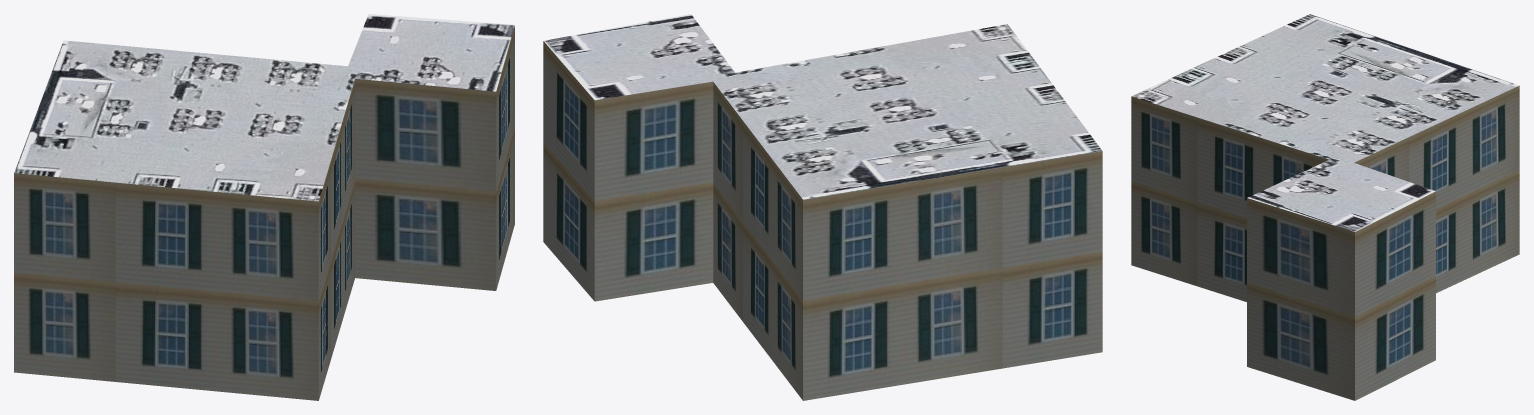
Rendered from ResTex__214.fbx.
3 renders of one model, left to right at view 1: azimuth 30°, elevation 25°; view 2: azimuth 150°, elevation 25°; view 3: azimuth 270°, elevation 25°, orthographic. The views are drawn at different scales.
Visible parts, largest first — view 1: CityEngineMaterial_7_m, CityEngineMaterial_4_m; view 2: CityEngineMaterial_7_m, CityEngineMaterial_4_m; view 3: CityEngineMaterial_7_m, CityEngineMaterial_4_m.
Boxes of the visible parts, <box> form: CityEngineMaterial_7_m: <box>14,25,514,400</box>; CityEngineMaterial_4_m: <box>14,14,514,201</box>; CityEngineMaterial_7_m: <box>543,41,1102,400</box>; CityEngineMaterial_4_m: <box>543,14,1102,199</box>; CityEngineMaterial_7_m: <box>1131,85,1519,400</box>; CityEngineMaterial_4_m: <box>1132,14,1518,231</box>.
Bounding box in the file's own units: 16.61 × 6 × 12.49.
Materials: 2 (2 with a texture image).
